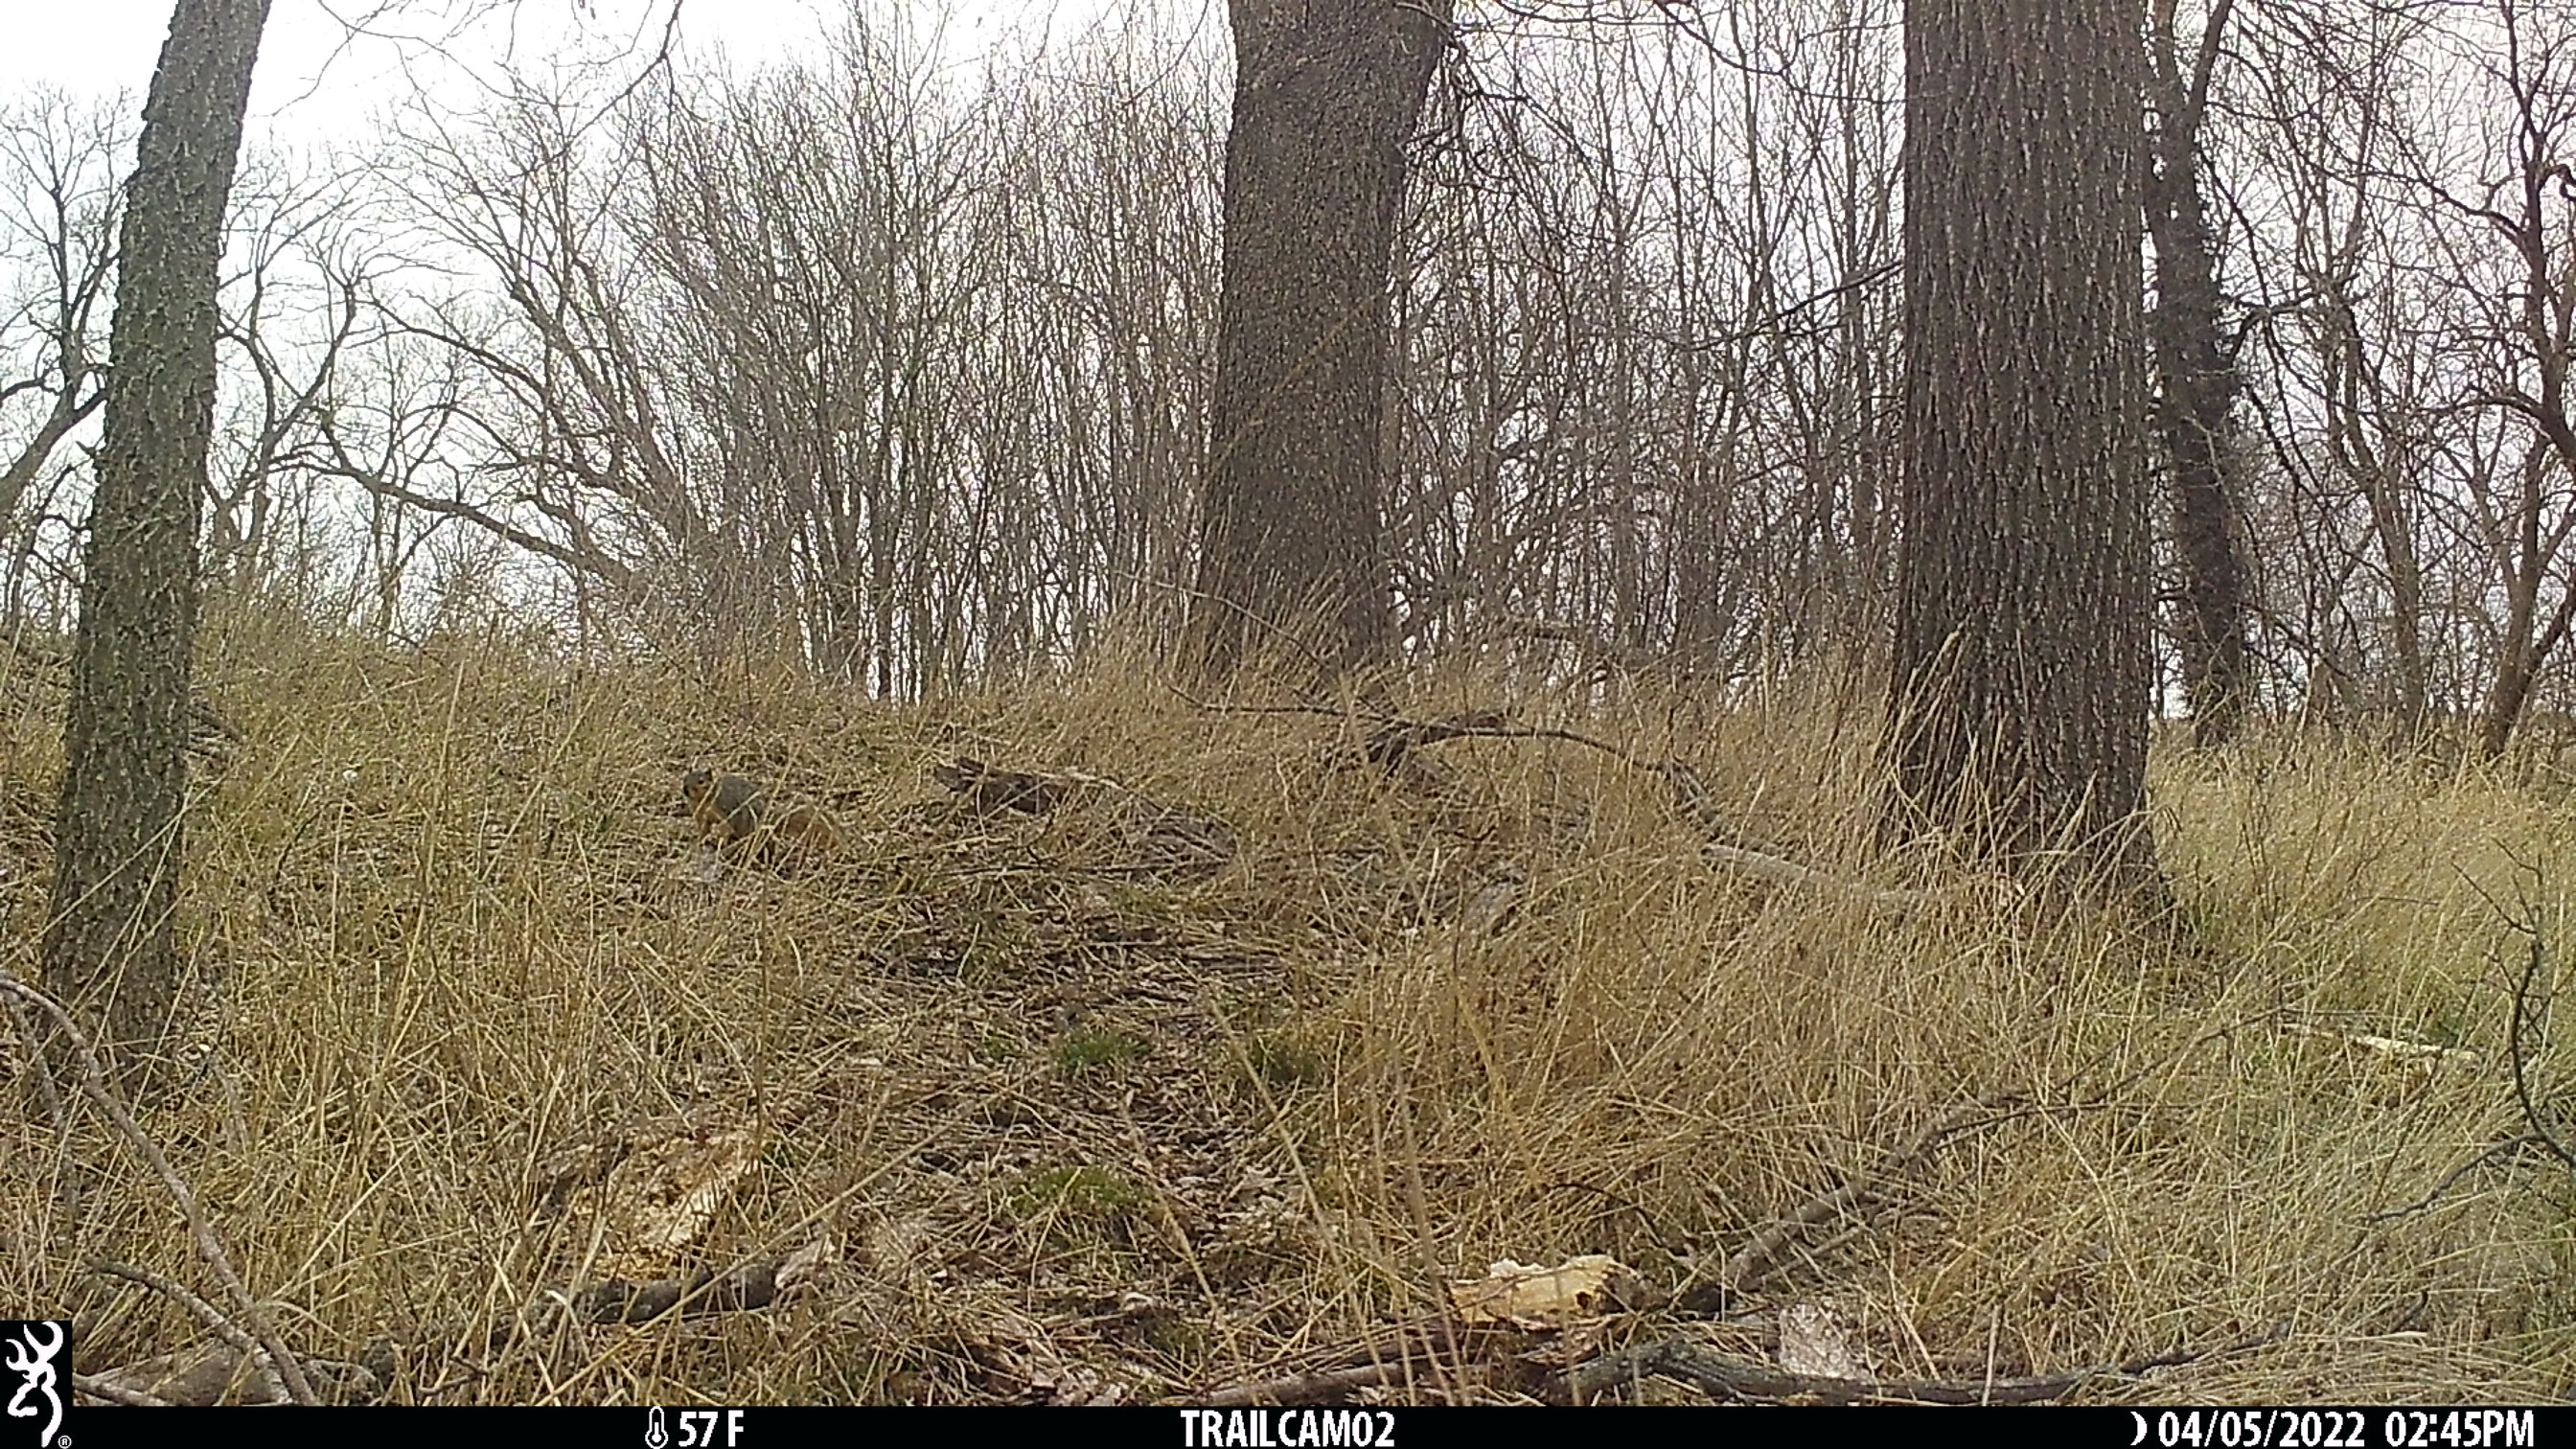Squirrel: (676, 763, 839, 842)
